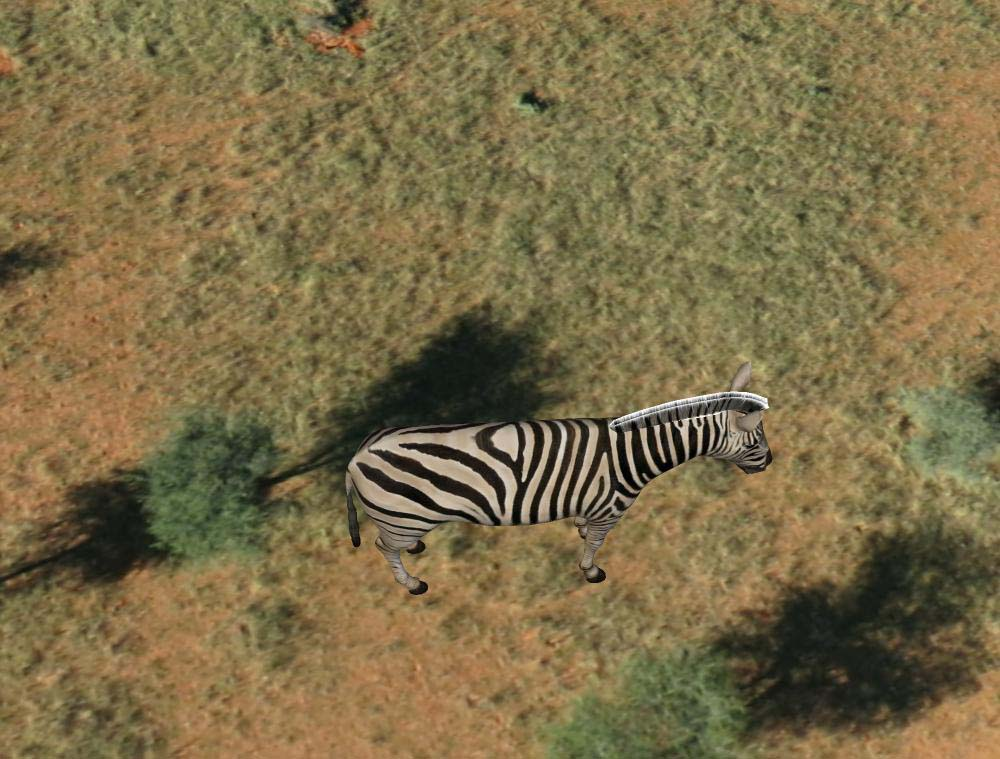zebra: (344, 372, 777, 597)
